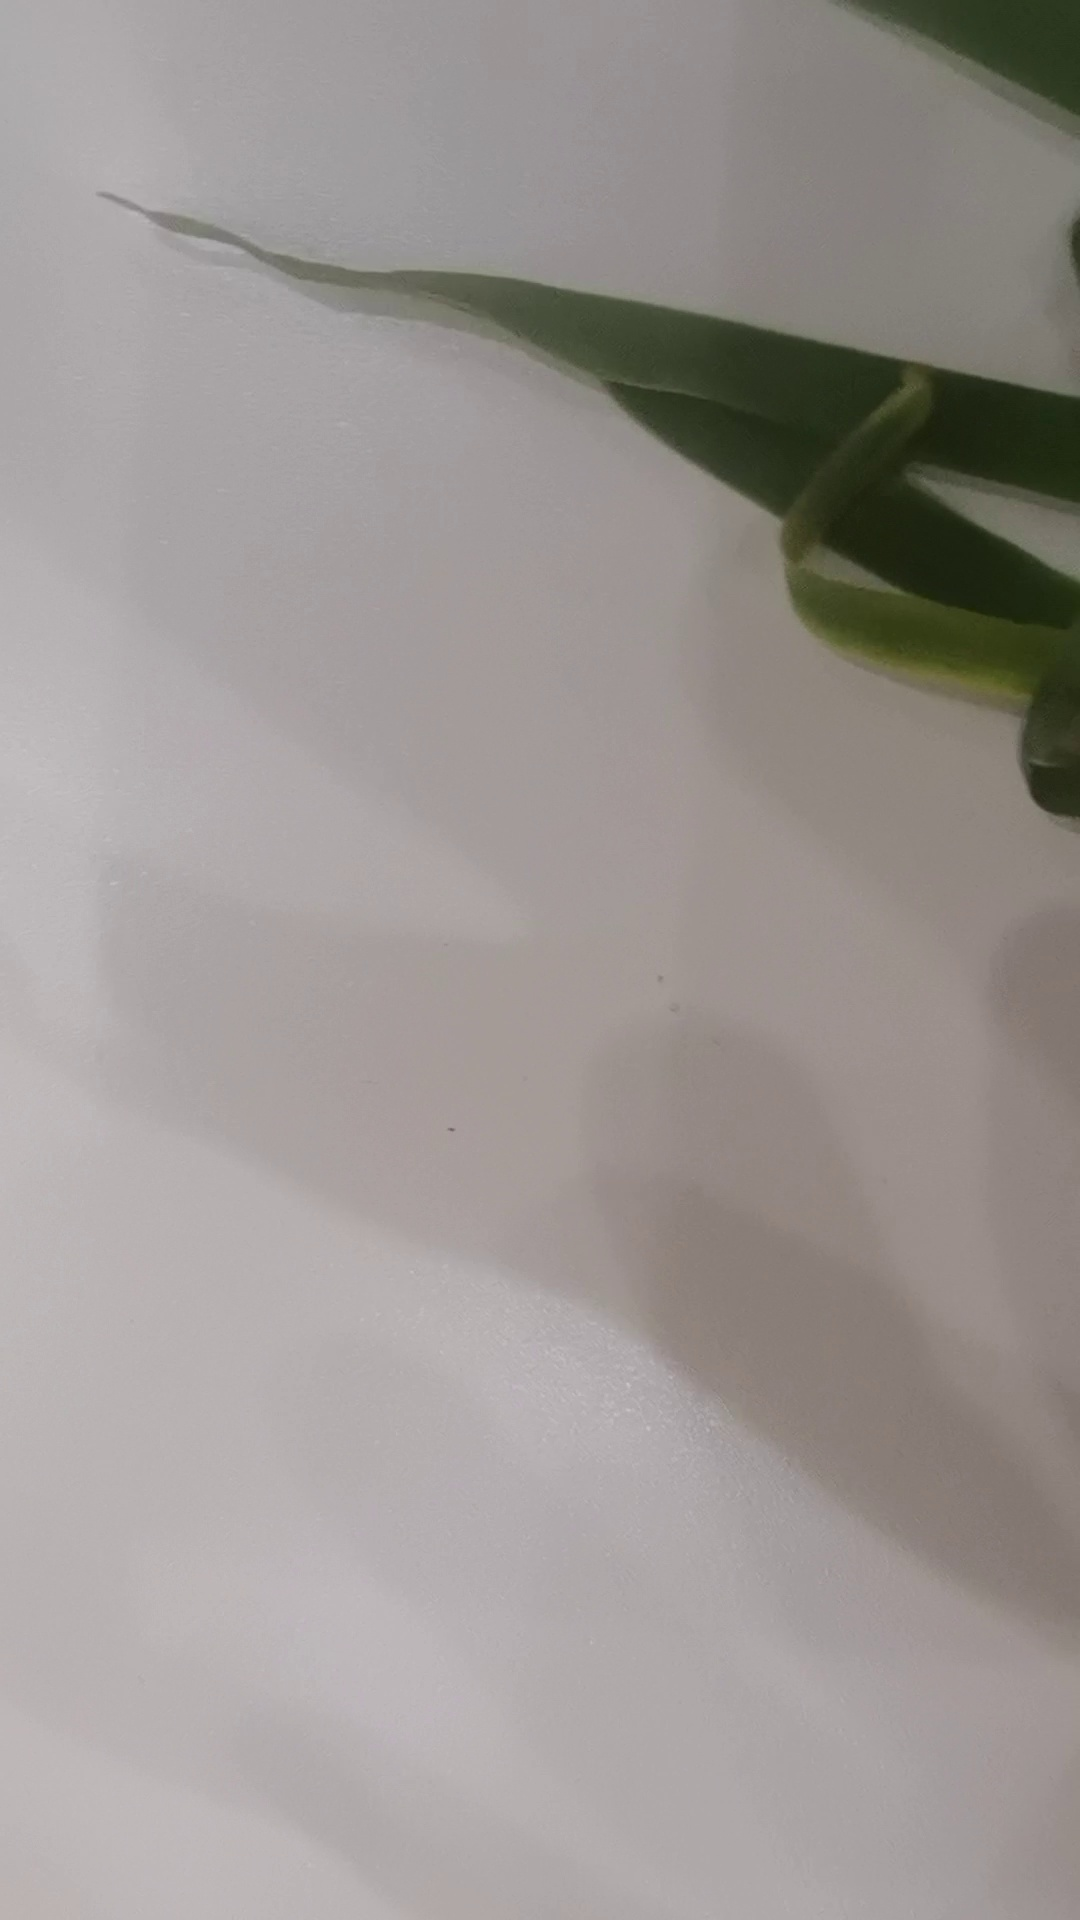chives: (1, 1, 1075, 827)
